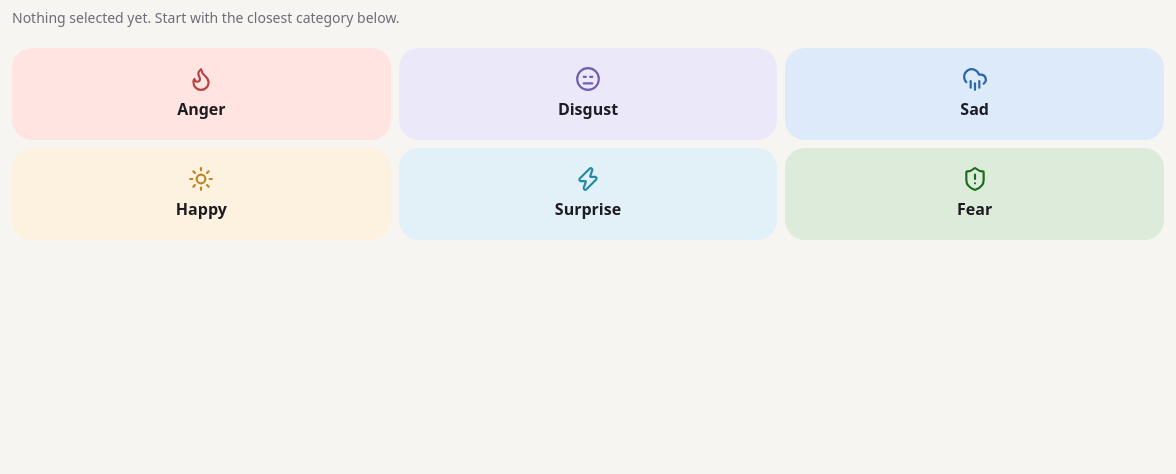
Scenario: EmotionPicker › reveals secondary emotions when a category is opened
The width and height of the screenshot is (1176, 474).
Click the button "Sad". click: (975, 94)
box: [785,48,1164,140]
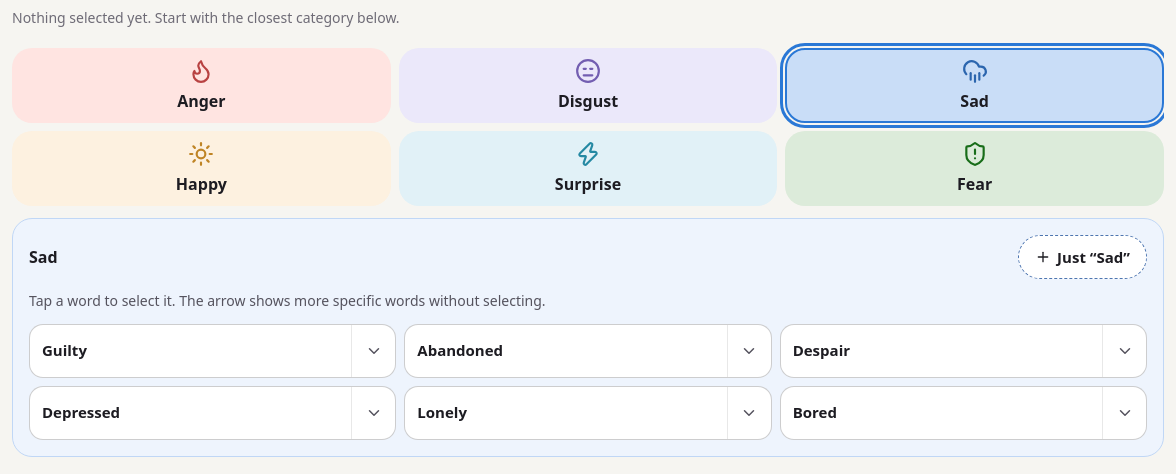
Expected: the button "Guilty" is shown, [30,325,351,377]
Expected: the button "Abandoned" is shown, [405,325,727,377]
Expected: the button "Despair" is shown, [781,325,1102,377]
